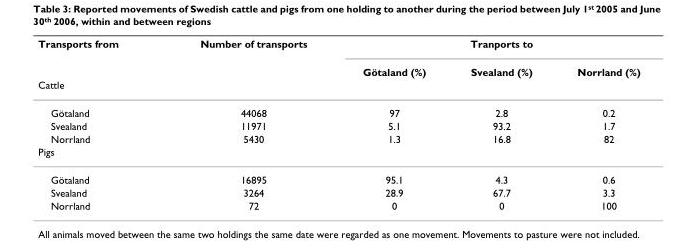table: (37, 37, 639, 211)
table column: (158, 37, 334, 211), (37, 37, 158, 211), (334, 37, 447, 211), (447, 37, 554, 211), (554, 37, 639, 211)
table column header: (37, 37, 639, 98)
table projected row header: (37, 144, 639, 165)
table row: (37, 77, 639, 98), (37, 98, 639, 119), (37, 144, 639, 165), (37, 37, 639, 57), (37, 57, 639, 77), (37, 165, 639, 185), (37, 131, 639, 144), (37, 185, 639, 198), (37, 198, 639, 211), (37, 119, 639, 131)
table spanning cell: (158, 37, 334, 98), (37, 37, 158, 98), (334, 37, 639, 57), (334, 57, 447, 98), (447, 57, 554, 98), (554, 57, 639, 98)
